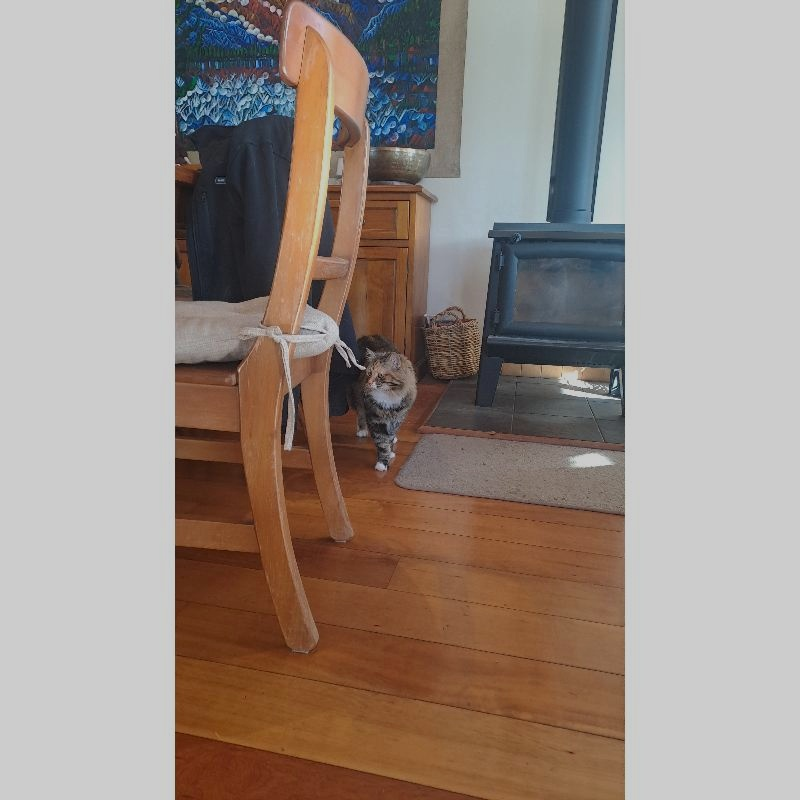red: (353, 332, 417, 470)
